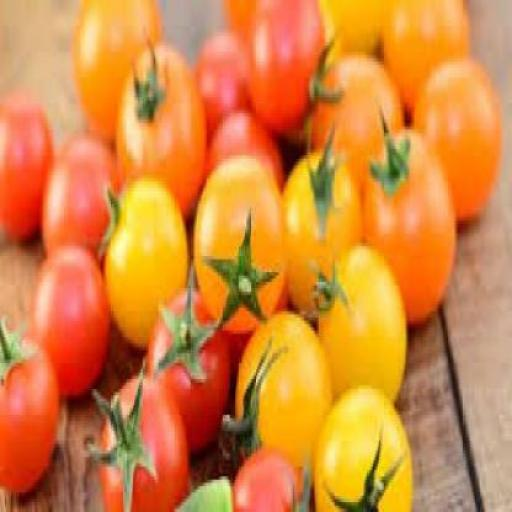biodegradable: (364, 110, 458, 321), (227, 302, 329, 476), (195, 149, 289, 331), (100, 172, 194, 344), (116, 42, 210, 214), (313, 239, 412, 402), (152, 263, 236, 450), (91, 354, 192, 508), (306, 48, 405, 192), (418, 55, 503, 217), (283, 139, 363, 302), (315, 383, 416, 508), (32, 243, 111, 398), (75, 1, 164, 136), (42, 133, 122, 268), (382, 3, 471, 120), (1, 330, 63, 490), (251, 1, 330, 126), (2, 91, 56, 236), (208, 104, 287, 194), (199, 16, 253, 123), (234, 440, 315, 509), (322, 0, 394, 59), (229, 0, 261, 36)
